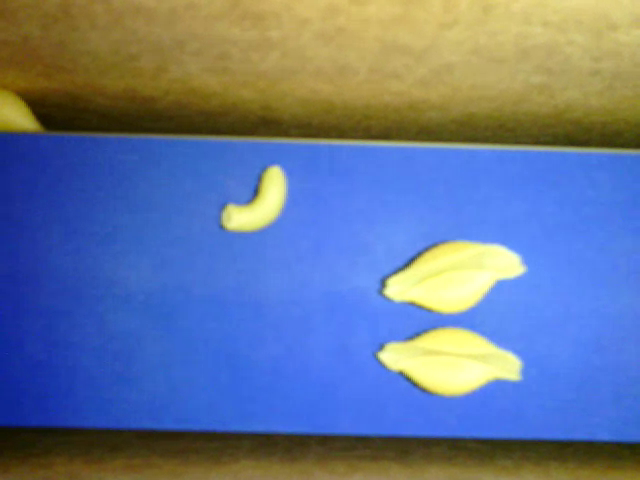elbow: (222, 164, 288, 232)
shell: (380, 239, 528, 313), (374, 326, 524, 398)
